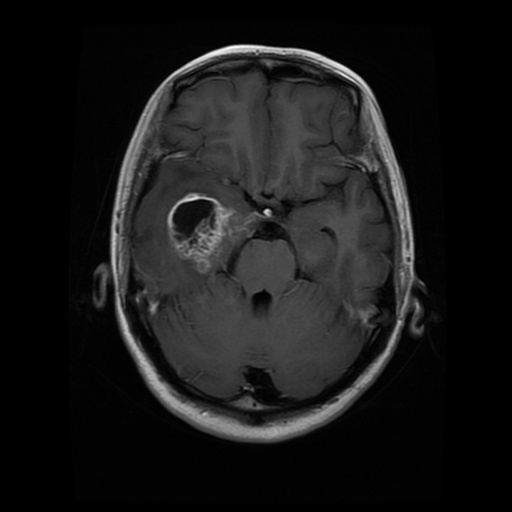glioma: (165, 190, 261, 275)
